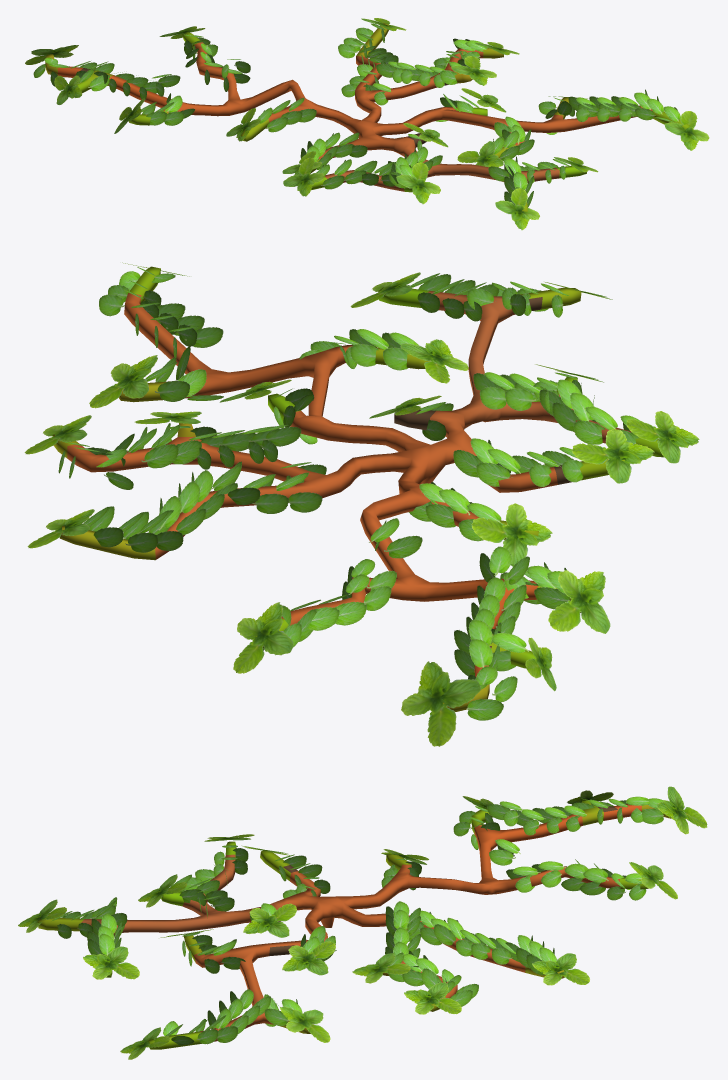
Rendered from hortela.fbx.
The picture shows the model from 3 angles, top to bottom: view 1: azimuth 30°, elevation 25°; view 2: azimuth 150°, elevation 25°; view 3: azimuth 270°, elevation 25°; orthographic projection. The views are drawn at different scales.
Visible parts, largest first — view 1: hortela_Folha_unica, hortela, hortelã_principal; view 2: hortela_Folha_unica, hortela, hortelã_principal; view 3: hortela_Folha_unica, hortela, hortelã_principal.
Boxes of the visible parts, x1=… form: hortela_Folha_unica: x1=33, y1=23, x2=680, y2=207; hortela: x1=45, y1=23, x2=689, y2=211; hortelã_principal: x1=25, y1=18, x2=709, y2=230; hortela_Folha_unica: x1=58, y1=267, x2=640, y2=720; hortela: x1=52, y1=266, x2=663, y2=711; hortelã_principal: x1=24, y1=262, x2=699, y2=746; hortela_Folha_unica: x1=51, y1=796, x2=663, y2=1045; hortela: x1=37, y1=800, x2=681, y2=1049; hortelã_principal: x1=18, y1=786, x2=707, y2=1059.
Bounding box in the file's own units: 117 × 13.33 × 134.
